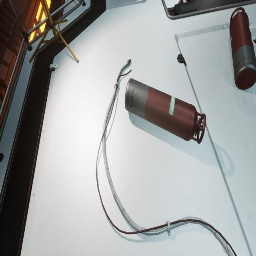NitrogenTank ,: (125, 78, 206, 144), (229, 7, 256, 90)
